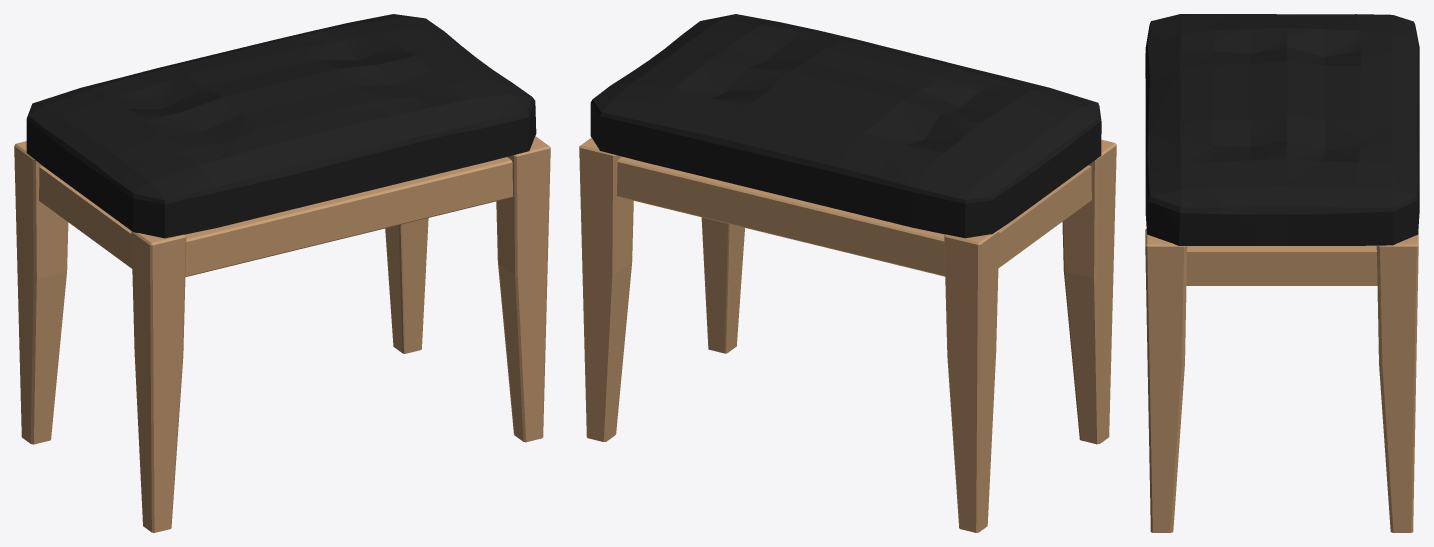
Rendered from FauteuilPiano.fbx.
The picture shows the model from 3 angles, left to right: view 1: azimuth 30°, elevation 25°; view 2: azimuth 150°, elevation 25°; view 3: azimuth 270°, elevation 25°; orthographic projection.
Visible parts, largest first — view 1: FauteuilPiano; view 2: FauteuilPiano; view 3: FauteuilPiano.
Part boxes in pixels (left/top/right/bottom): FauteuilPiano: left=14, top=14, right=550, bottom=532; FauteuilPiano: left=579, top=14, right=1116, bottom=532; FauteuilPiano: left=1145, top=14, right=1419, bottom=532.
Size of the model in its own units: 54.03 by 45.12 by 32.06.
